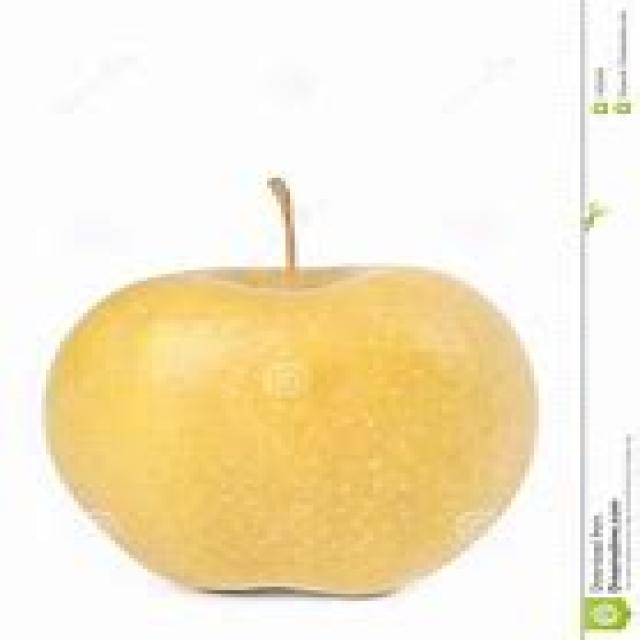apple: (46, 174, 538, 599)
